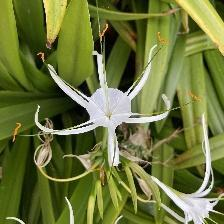spider lily: (56, 73, 172, 156)
